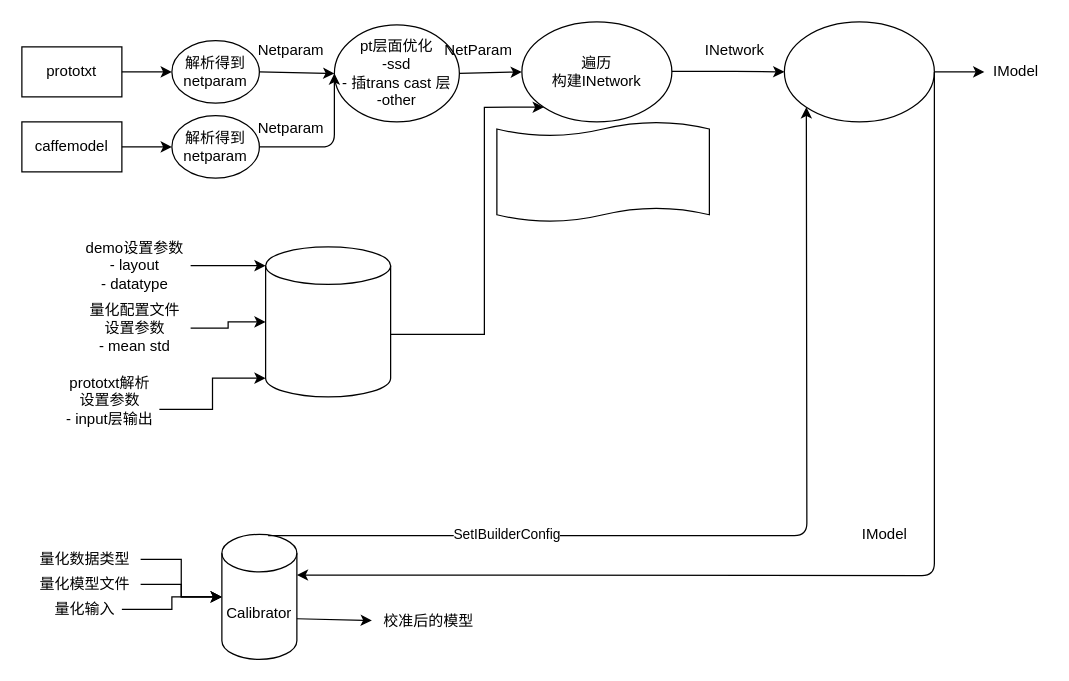
Some shapes in this 1069 by 681 pixel diagram are drawn without their labels. Each missing label, with the centre of its shape:
- 构建网络输入 - 构建算子-每层单独解析功能 - 构建网络输出: (x=602, y=171)
CommonInfo Singleton: (x=327, y=321)
构建IModel 生成离线模型: (x=858, y=71)
